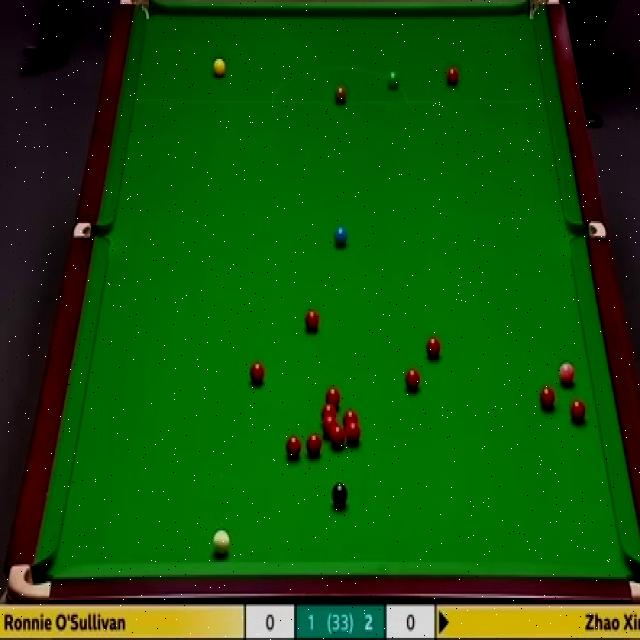black-ball: (332, 482, 348, 508)
blue-ball: (333, 225, 348, 244)
brown-ball: (333, 86, 348, 104)
green-ball: (387, 69, 399, 90)
pink-ball: (558, 362, 576, 388)
red-ball: (570, 398, 588, 425), (330, 426, 345, 452), (540, 385, 555, 411), (306, 433, 322, 456), (286, 435, 302, 458), (445, 65, 461, 88), (249, 362, 265, 384), (346, 422, 362, 444), (307, 314, 323, 336), (404, 369, 419, 392), (321, 418, 336, 438), (327, 386, 339, 409), (343, 409, 358, 427), (427, 338, 440, 358), (322, 407, 335, 424)
white-ball: (212, 530, 232, 560)
yellow-ball: (212, 57, 225, 78)
